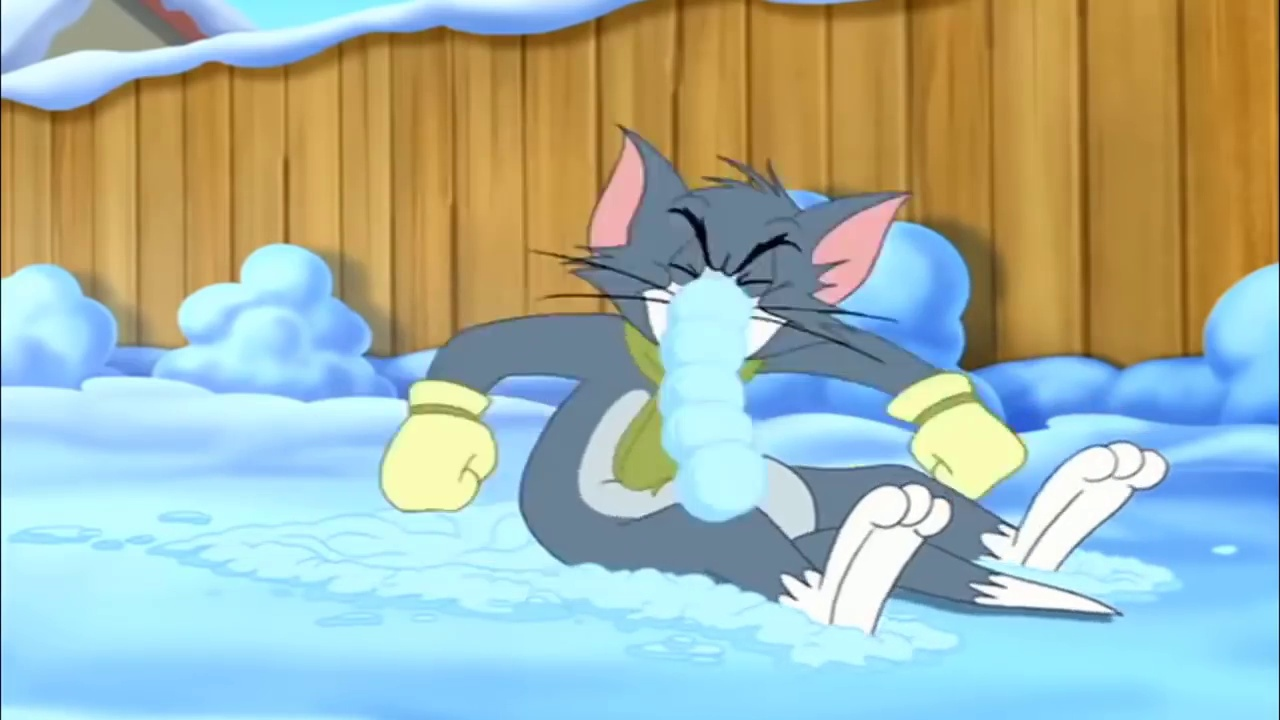face: (643, 195, 805, 369)
